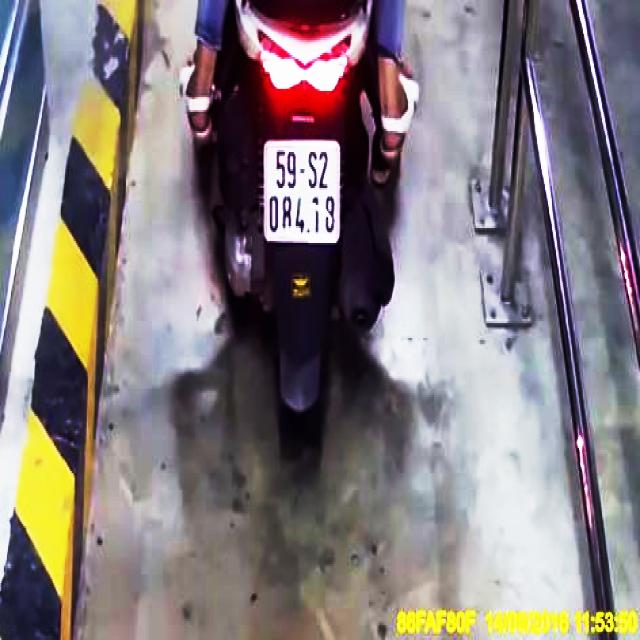license_plate: (265, 144, 339, 242)
